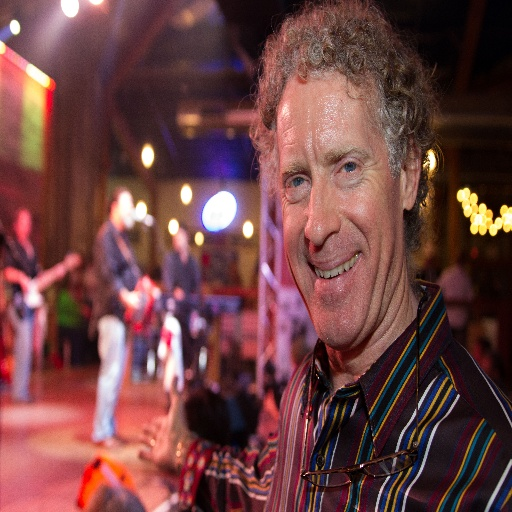hand: (136, 369, 191, 471), (125, 288, 140, 311), (172, 284, 187, 301), (20, 272, 31, 294)
